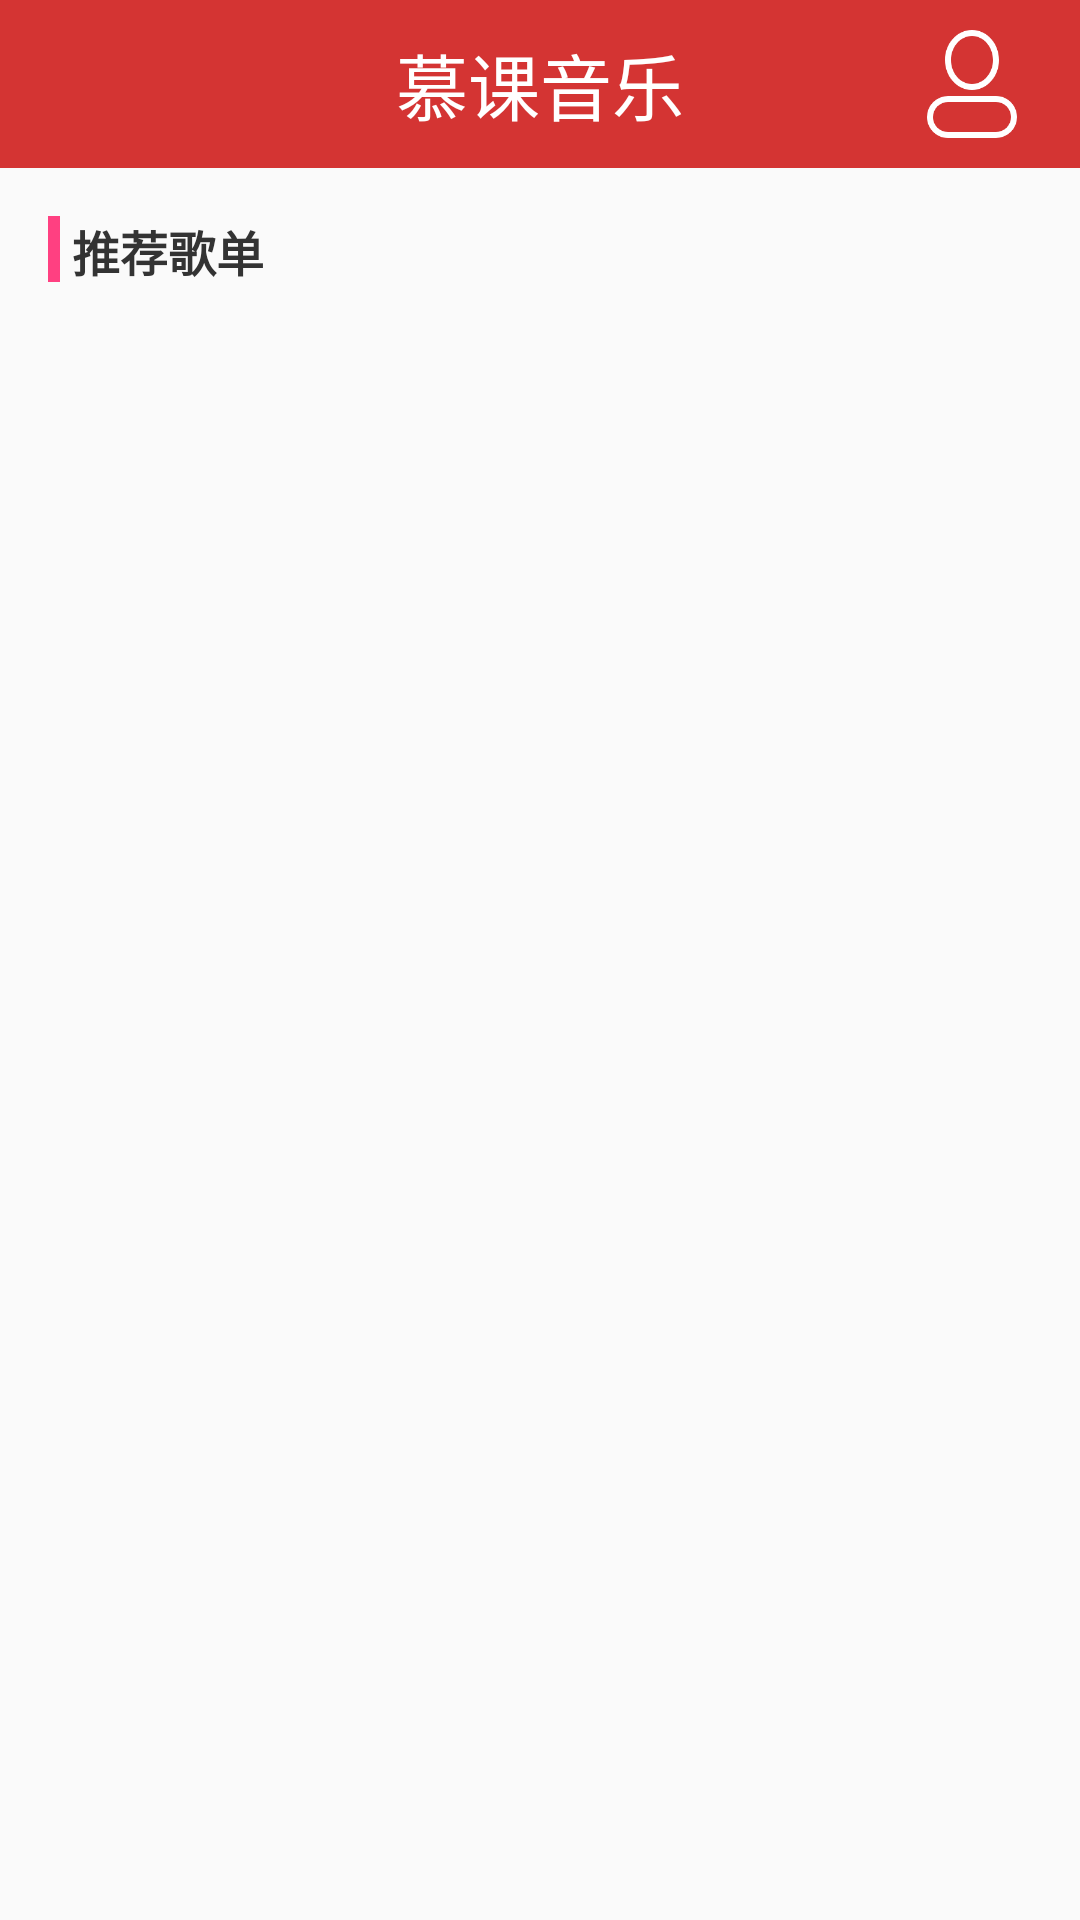

Icons on this 1080w x 1920h Android screen, each with the point to tap as point (x, y):
mine: point (972, 84)
